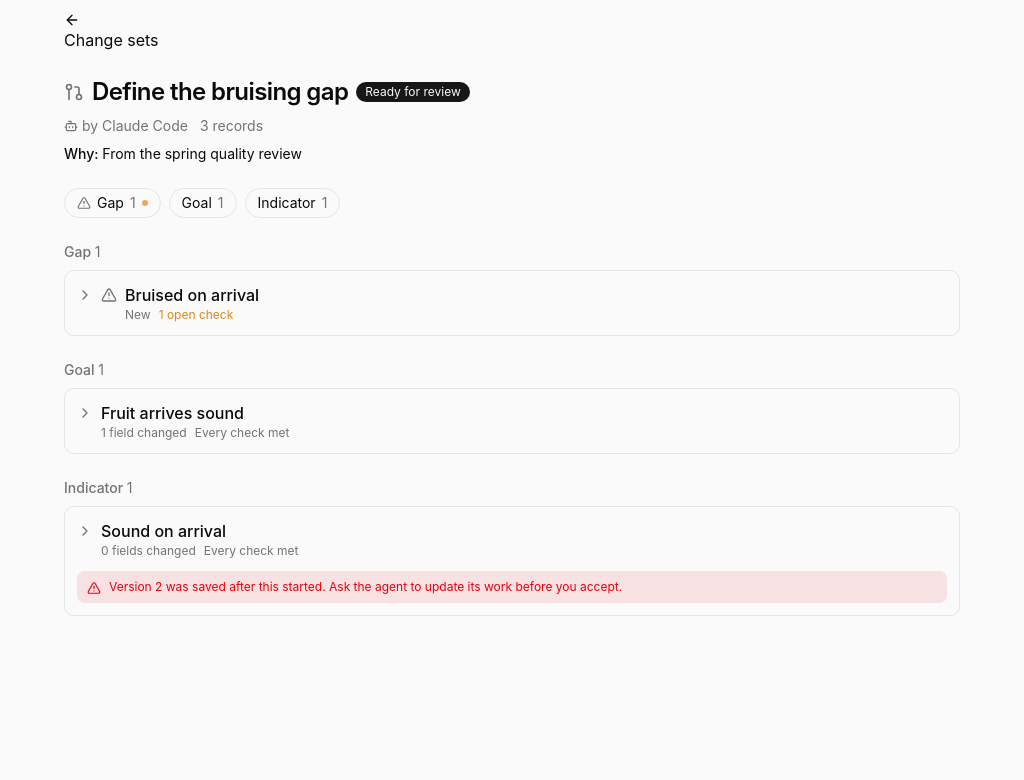
Test: a change set's review › groups its records by kind, with what each changes and still lacks
Expected: the heading "Define the bruising gap" is shown, [92,76,348,108]
Expected: the link "Gap 1" is shown, [64,188,161,218]
Step 1. Click the button "Bruised on arrival New 1 open check" → (192, 295), box [77,283,947,323]
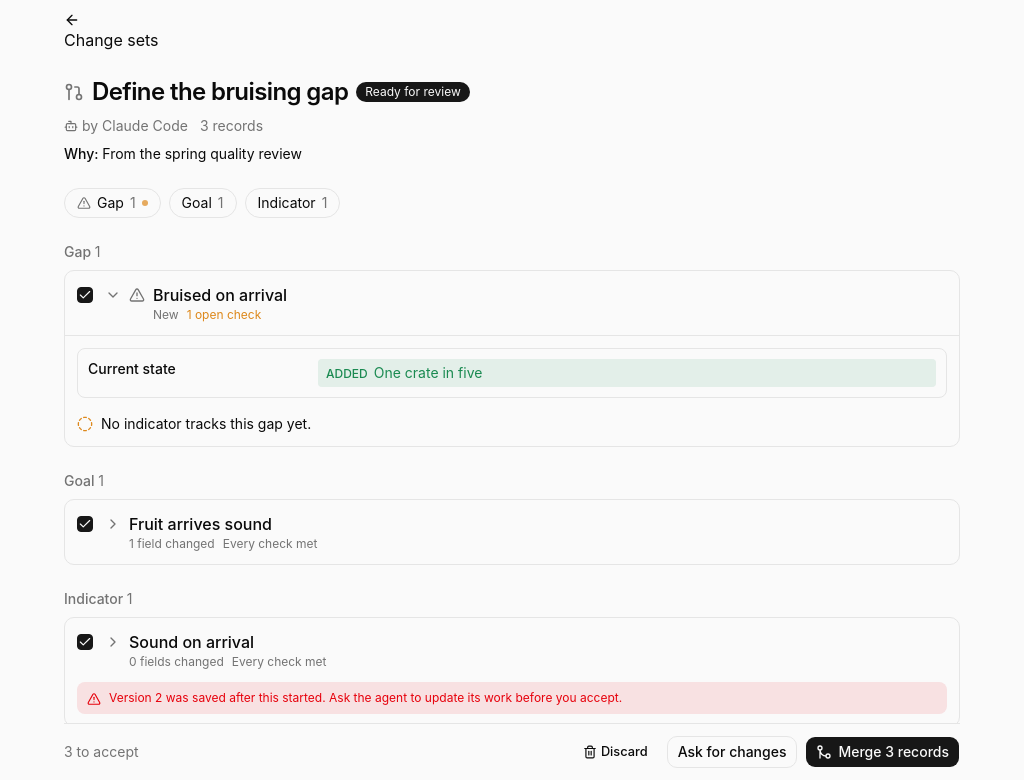
Expected: the text "One crate in five" is shown, [374,364,482,381]
Expected: the list item "No indicator tracks this gap yet." is shown, [77,415,311,432]
